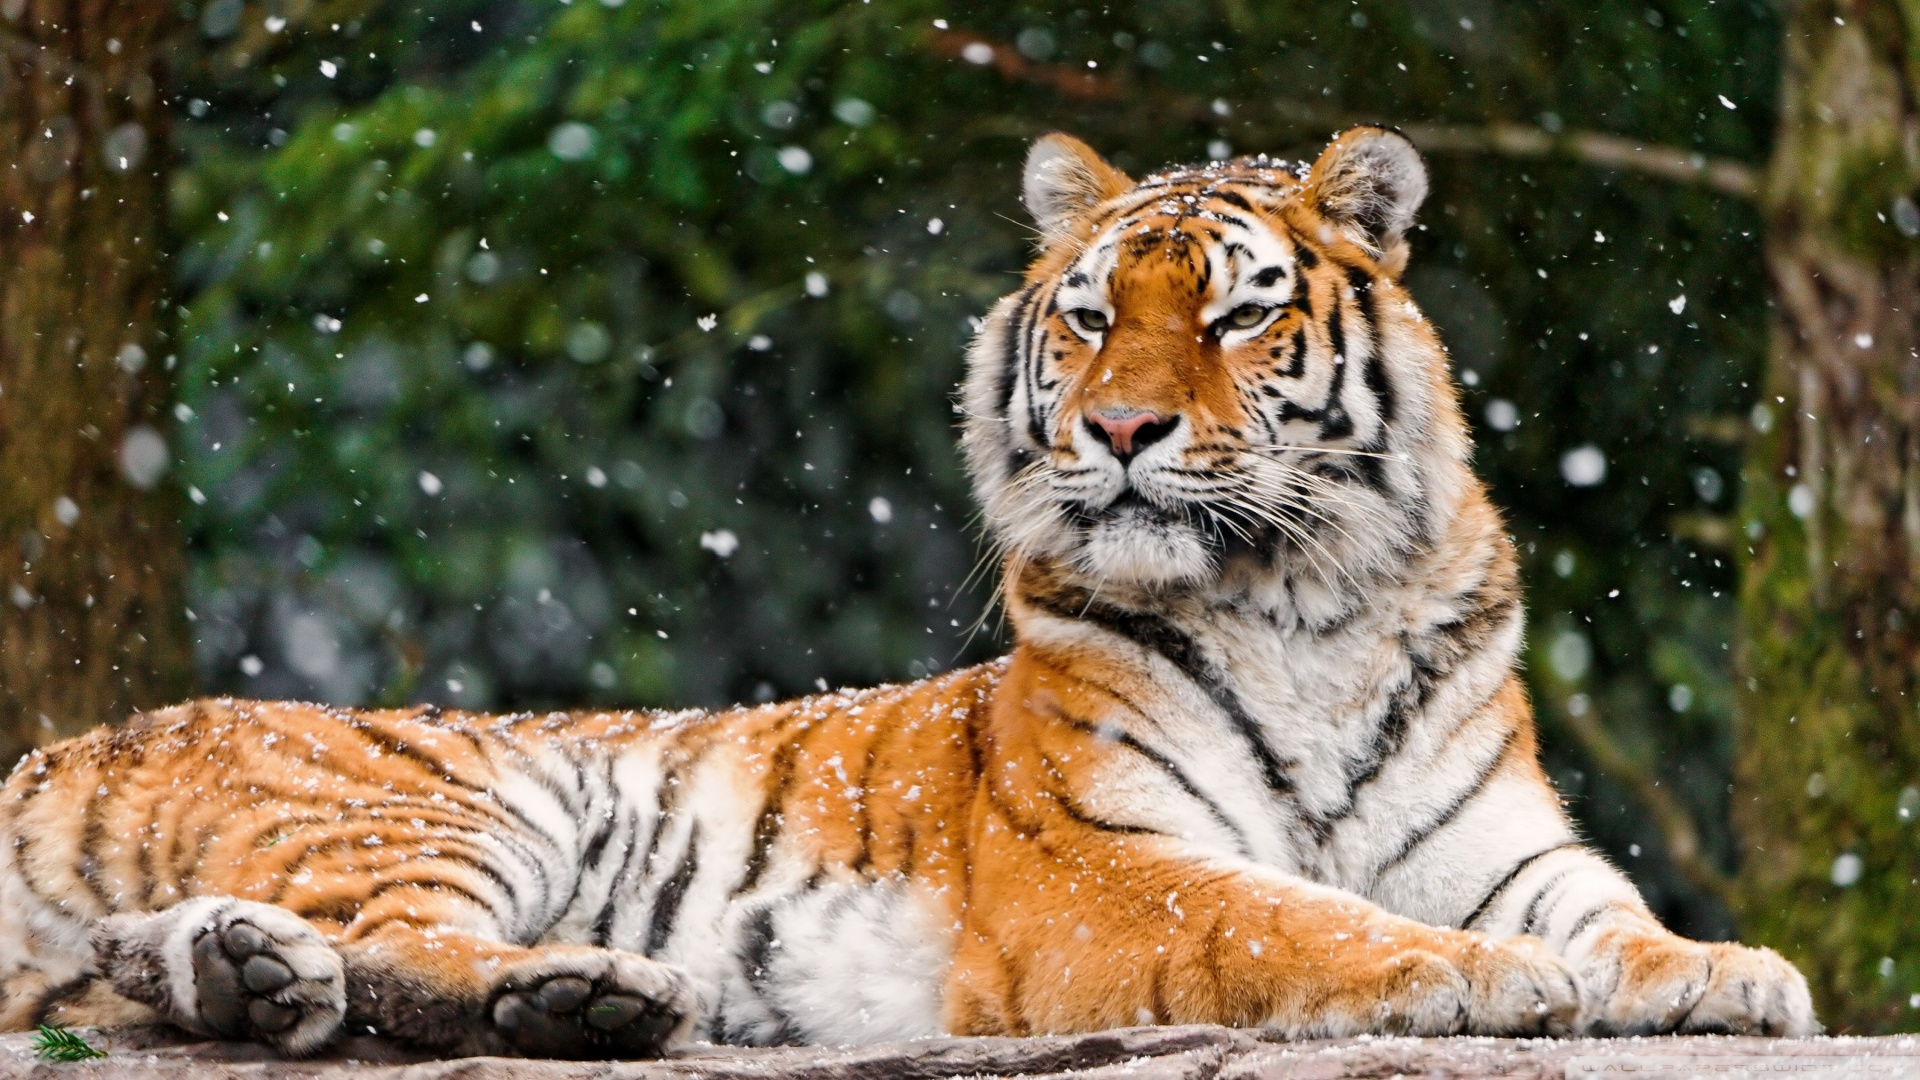tiger: (91, 152, 1838, 1031)
